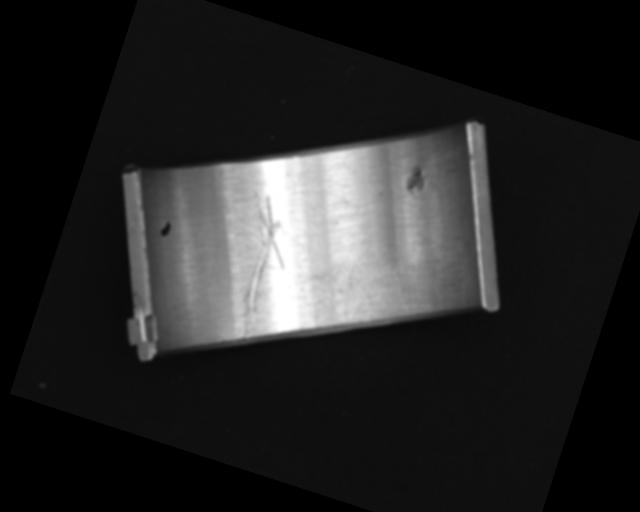blot: (157, 217, 174, 240)
bruise: (402, 162, 430, 197)
nick: (211, 191, 307, 346)
scratch: (318, 243, 453, 351)
